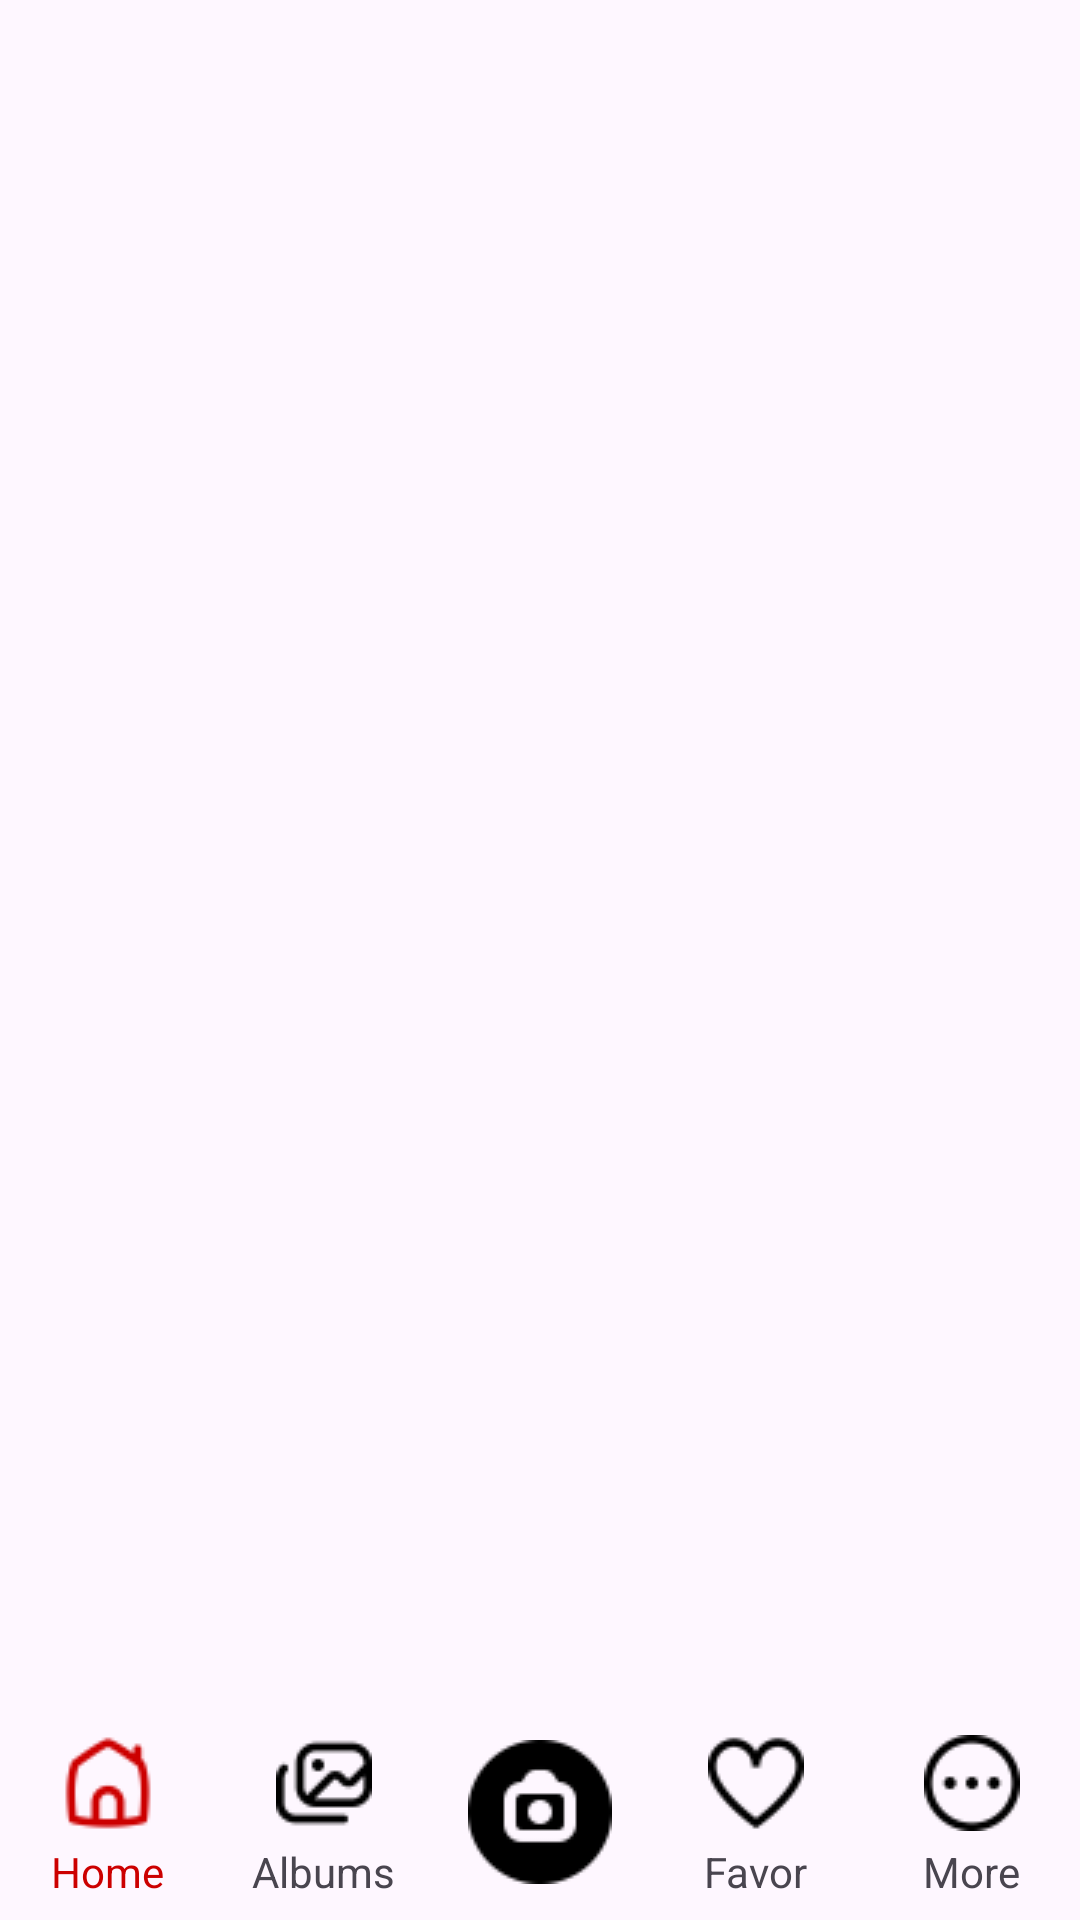

Icon click points for this 1080x1920 phone screenshot, format (x=x, y=y):
camera: (x=540, y=1812)
